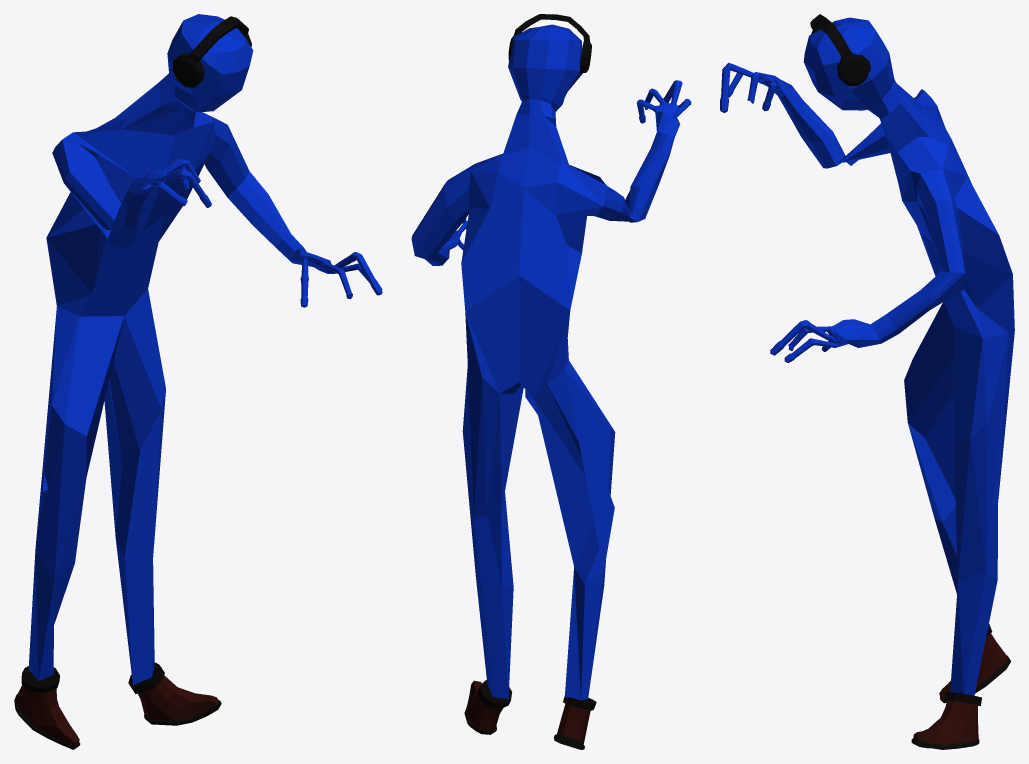
Rendered from dj_anim_p1_f2.obj.
The picture shows the model from 3 angles, left to right: view 1: azimuth 30°, elevation 25°; view 2: azimuth 150°, elevation 25°; view 3: azimuth 270°, elevation 25°; orthographic projection. The views are drawn at different scales.
Visible parts, largest first — view 1: dj_alien, Shoe, Headphones; view 2: dj_alien, Shoe, Headphones; view 3: dj_alien, Shoe, Headphones.
Boxes of the visible parts, left/top/right/bottom form: dj_alien: left=28, top=14, right=382, bottom=685; Shoe: left=14, top=662, right=221, bottom=749; Headphones: left=172, top=16, right=251, bottom=87; dj_alien: left=411, top=24, right=691, bottom=700; Shoe: left=464, top=680, right=596, bottom=749; Headphones: left=508, top=14, right=591, bottom=72; dj_alien: left=720, top=17, right=1014, bottom=695; Shoe: left=911, top=624, right=1010, bottom=749; Headphones: left=810, top=14, right=870, bottom=85.
Bounding box in the file's own units: 0.781 × 2.13 × 0.7835.
